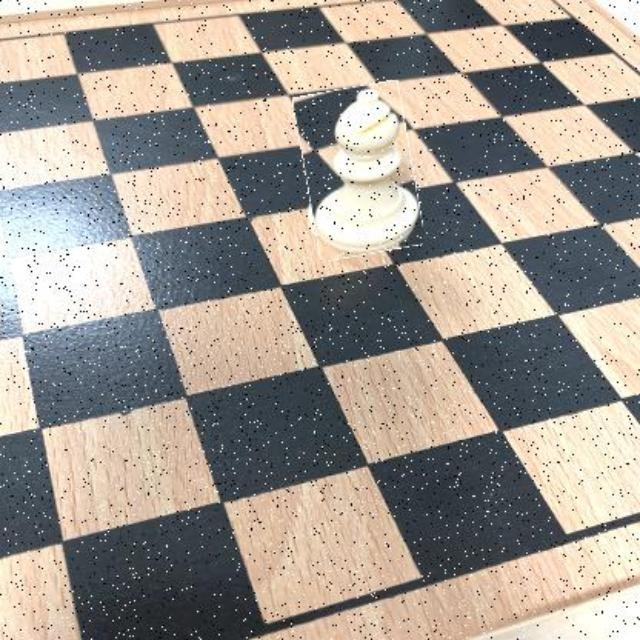white-bishop: (300, 84, 418, 257)
